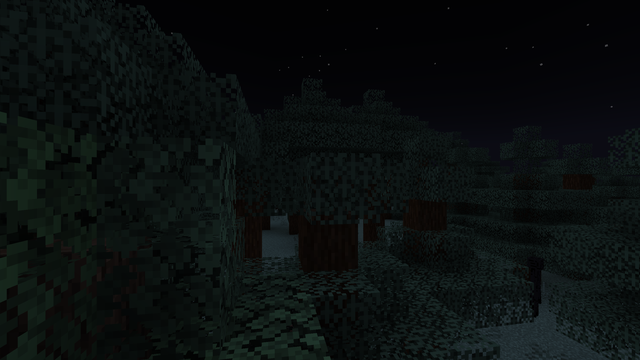endermens: (524, 254, 546, 319)
